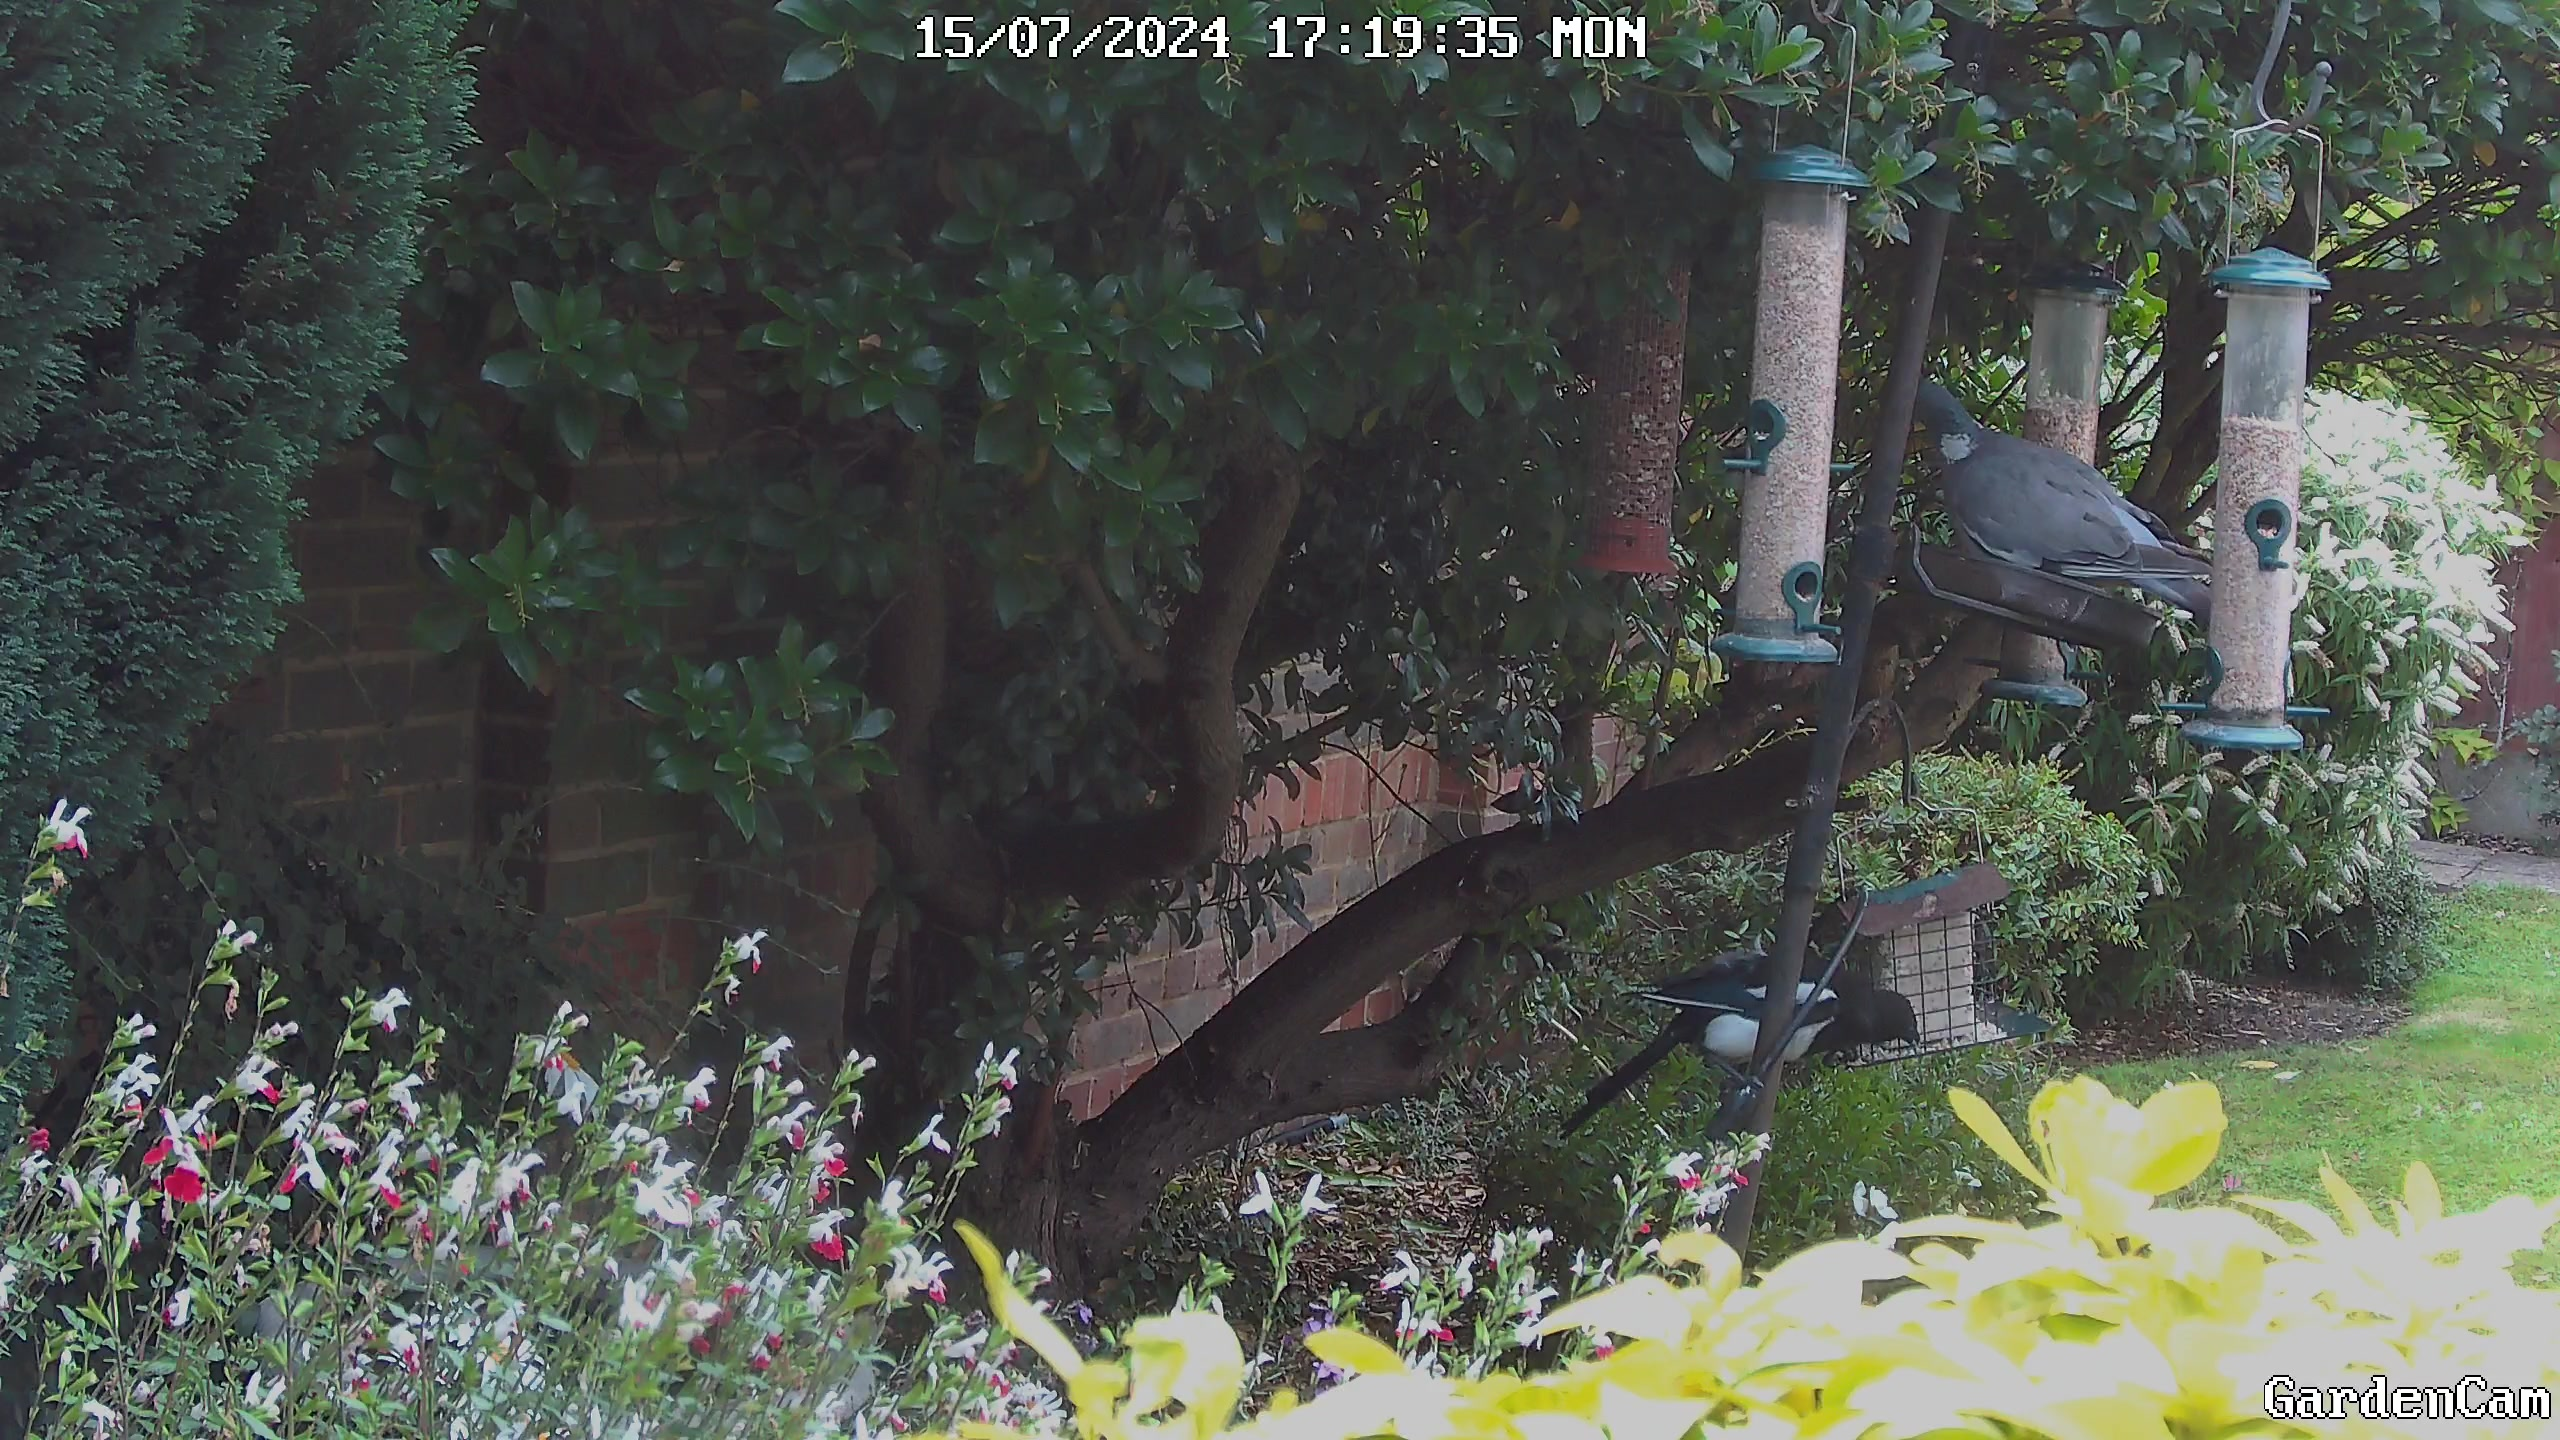Magpie: (1560, 937, 1941, 1134)
Wood_Pigeon: (1880, 362, 2256, 640)
